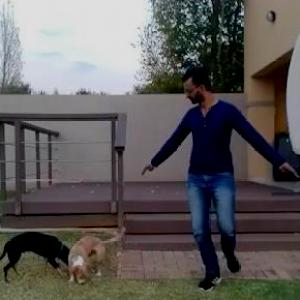land: (131, 62, 299, 293)
